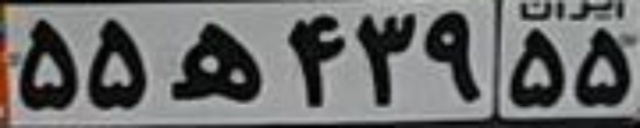3: (356, 12, 418, 108)
4: (287, 13, 345, 108)
5: (16, 18, 78, 111), (88, 17, 148, 110), (507, 24, 564, 107), (574, 26, 632, 107)
9: (423, 9, 482, 104)
he: (168, 21, 265, 106)
